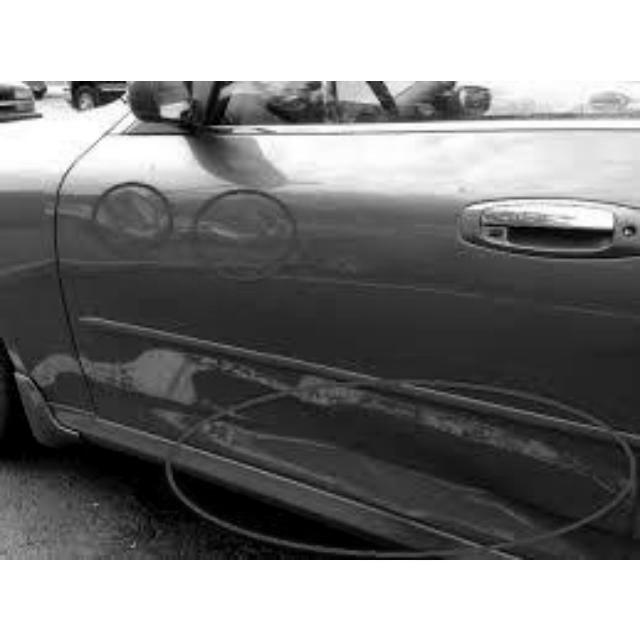Runningboard-Damage: (267, 486, 531, 557)
doorouter-dent: (97, 134, 598, 470)
